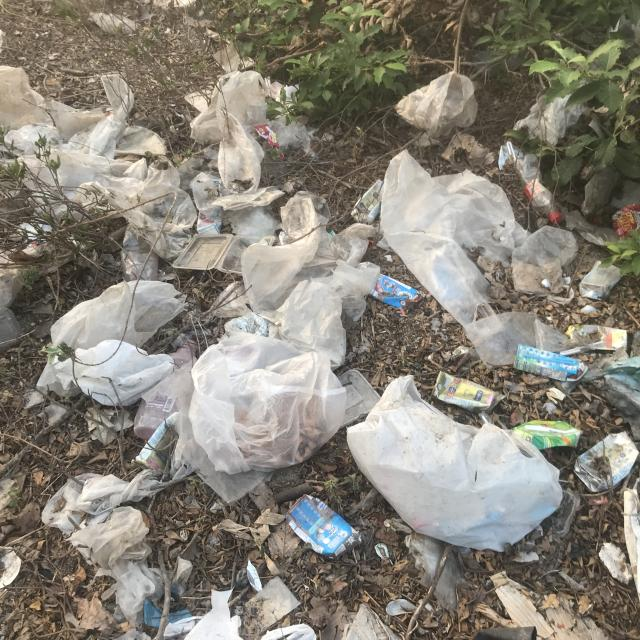Single-layer Plastic: (348, 375, 562, 550), (189, 334, 346, 475), (142, 362, 270, 501), (380, 150, 528, 264), (76, 160, 198, 260), (70, 506, 162, 626), (385, 231, 489, 326), (51, 280, 185, 349), (38, 340, 175, 406), (41, 470, 165, 535), (270, 280, 346, 369), (241, 231, 320, 312), (19, 149, 134, 200), (464, 312, 569, 366), (395, 71, 478, 139), (69, 74, 134, 159), (191, 71, 266, 144), (69, 506, 149, 569), (405, 534, 465, 612), (512, 226, 578, 295), (298, 222, 376, 280), (190, 172, 284, 218), (315, 260, 380, 321), (216, 110, 264, 192), (514, 95, 585, 145), (0, 66, 52, 130), (184, 590, 242, 640), (281, 191, 330, 244), (46, 100, 105, 141), (222, 206, 278, 246), (331, 222, 378, 268), (4, 124, 62, 156), (115, 125, 166, 156), (211, 281, 251, 318), (269, 115, 312, 149), (261, 624, 316, 640)
